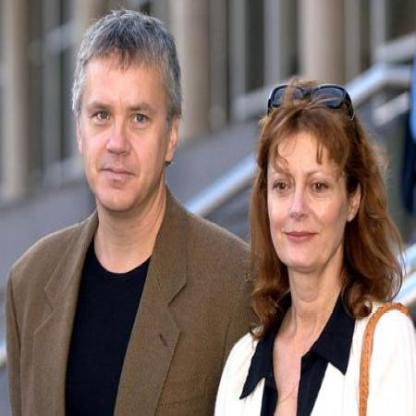face: (77, 15, 173, 214), (262, 101, 352, 275)
